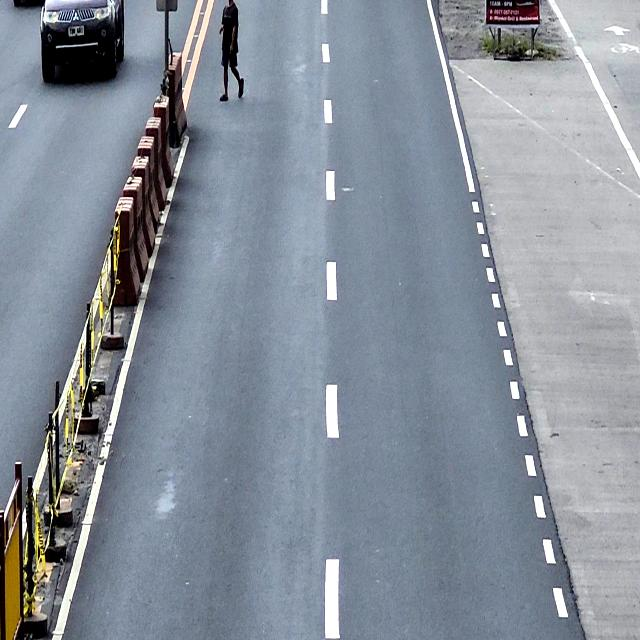Car: (39, 0, 125, 81)
License-Plate: (67, 24, 86, 36)
